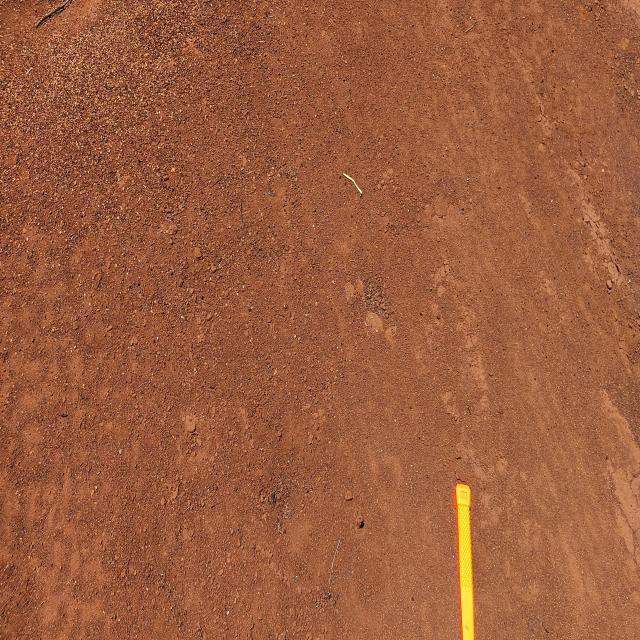Orange_hammer: (454, 482, 474, 639)
